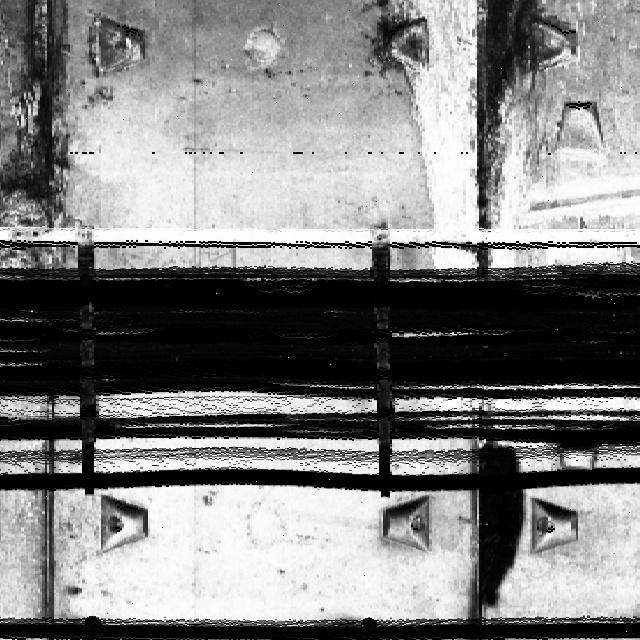leakage: (373, 0, 572, 269), (1, 0, 104, 230), (446, 436, 540, 629)
